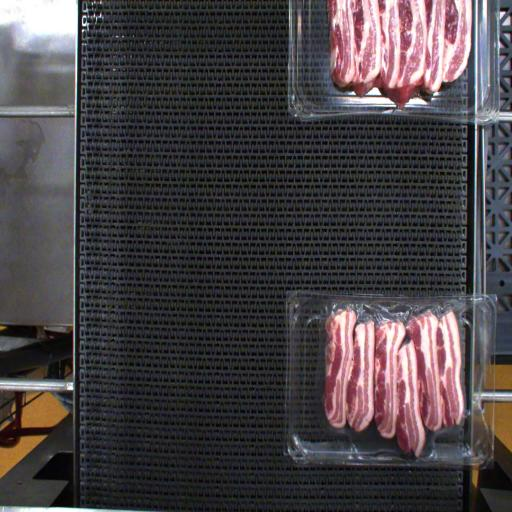unsealed: (312, 301, 475, 421)
